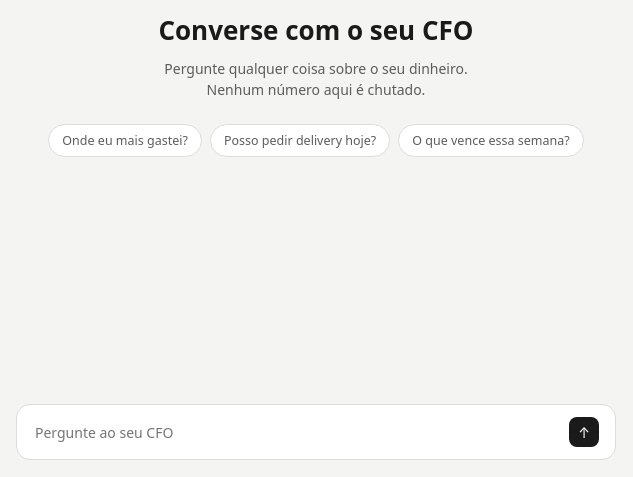
Test: TelaChat › envia a pergunta ao clicar em um chip de sugestão
Click the button "Posso pedir delivery hoje?".
click(300, 140)  # box [210,124,390,157]
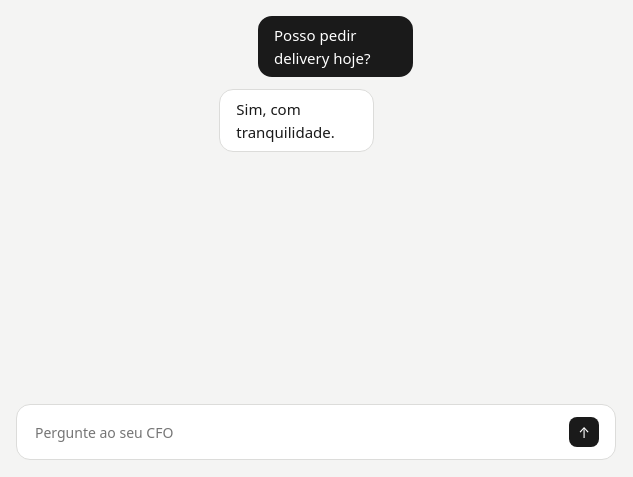
Check: the list item "Sim, com tranquilidade." is shown, box [219,89,374,152]
